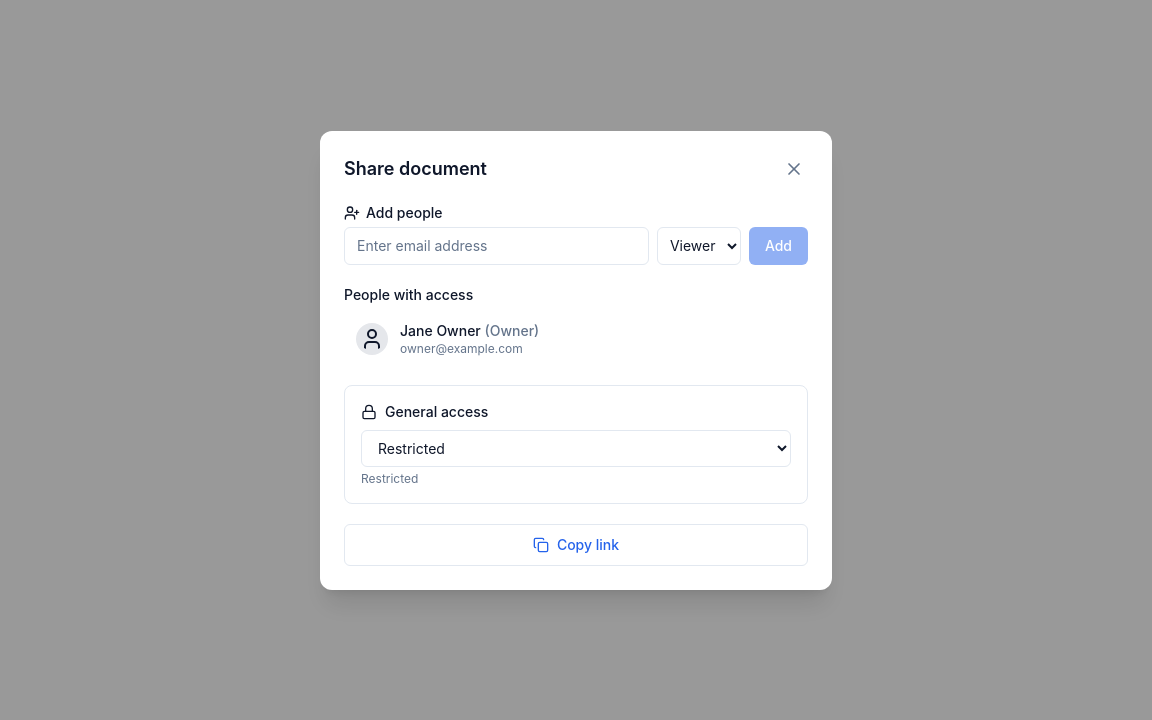
Test case: ShareDialog › add collaborator loading: button disabled during request
The image size is (1152, 720).
Type "loading@example.com" into the field with placeholder "Enter email address".
click(496, 246); type("loading@example.com")  # box [344,226,649,264]
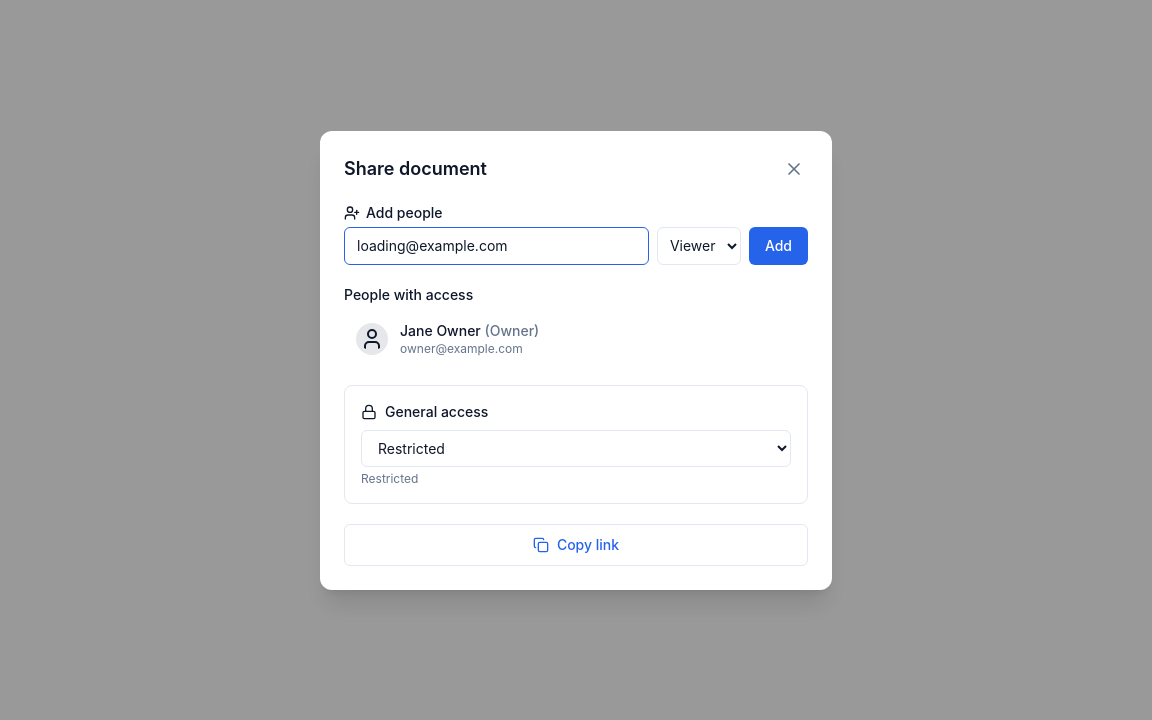
Click the button "Add".
click(778, 246)  # box [749,226,808,264]
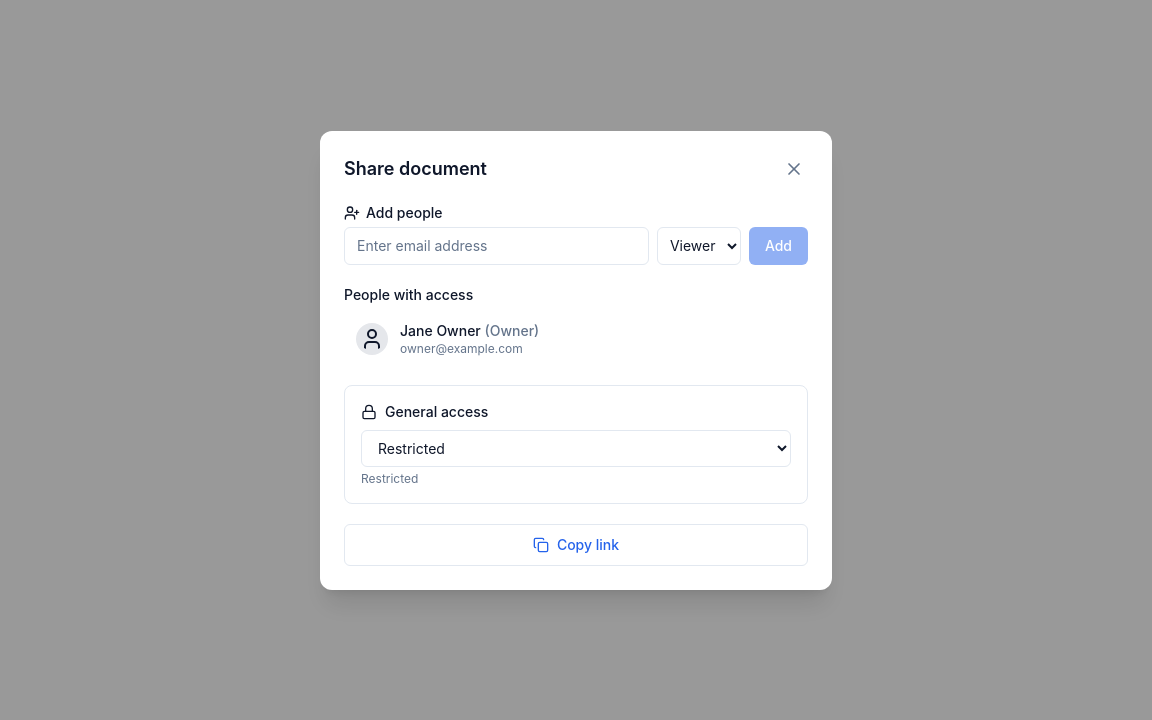
Now the button "Add" is disabled, box [749,226,808,264]
